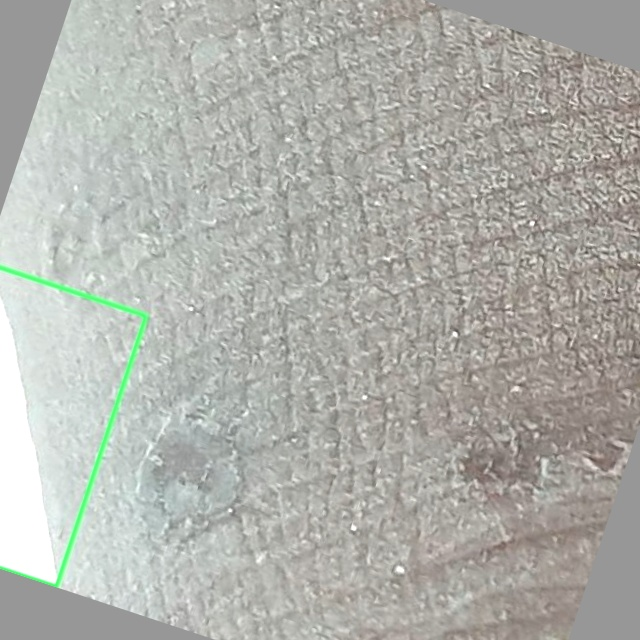Contact Dermatitis: (0, 266, 146, 586)
